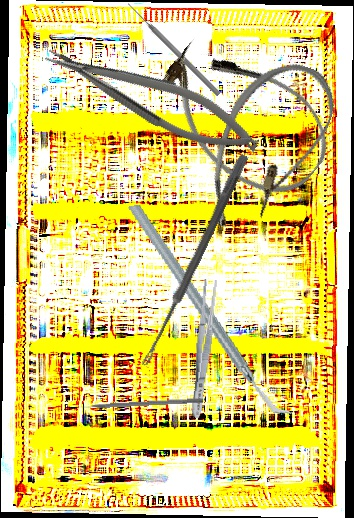Cannula: (140, 17, 348, 217), (193, 47, 345, 250)
Chopper: (125, 183, 295, 437)
Dressing Forceps: (187, 278, 220, 419)
Hook Surgical: (74, 396, 204, 410)
Needle Holder: (40, 26, 266, 170)
Pusher: (125, 0, 222, 98)
Surgical Spoon: (140, 152, 249, 369)
